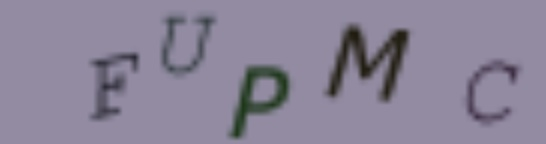C: (462, 57, 526, 128)
F: (83, 47, 145, 124)
M: (319, 19, 415, 107)
P: (223, 64, 293, 141)
U: (153, 13, 228, 82)
